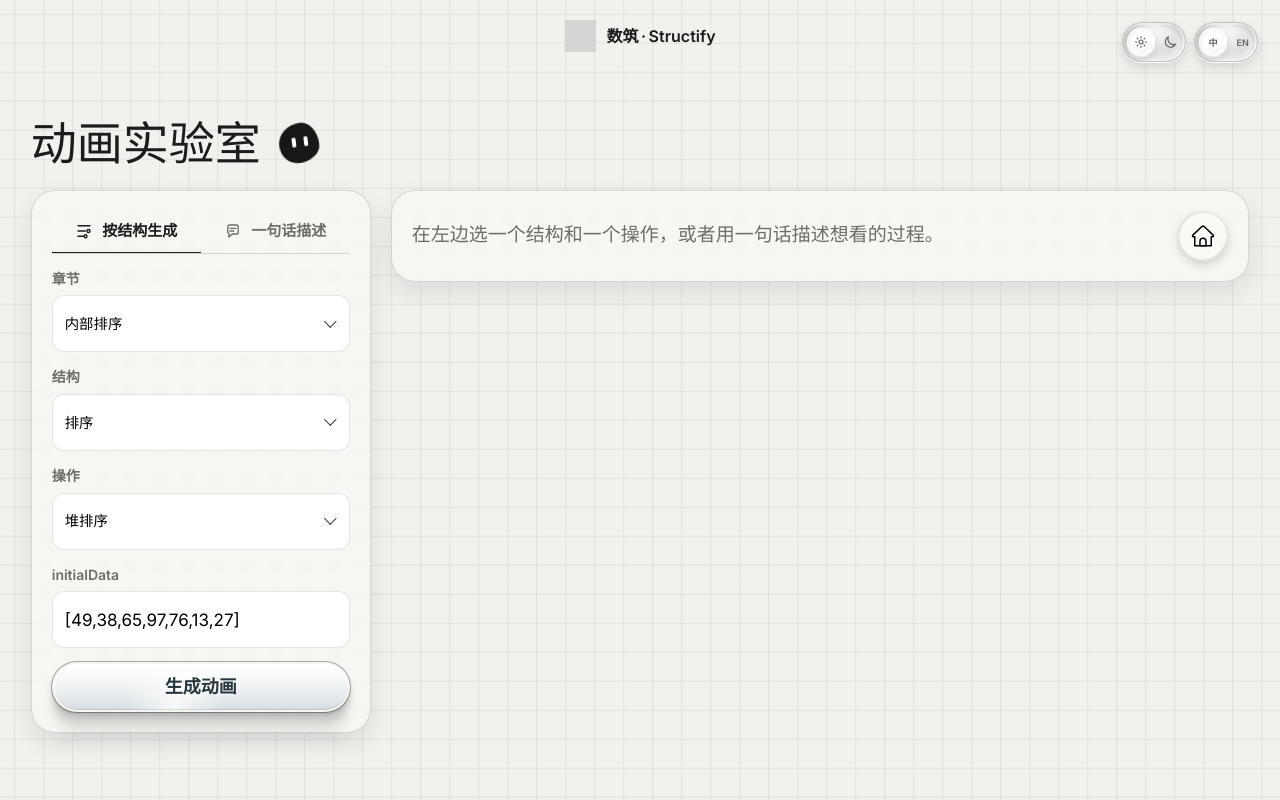
Test: animation lab › raises the missing arguments in a dialog instead of printing them as small print
The width and height of the screenshot is (1280, 800).
Step 1. Click the button named "生成动画" → (201, 687), box [52,662,350,712]
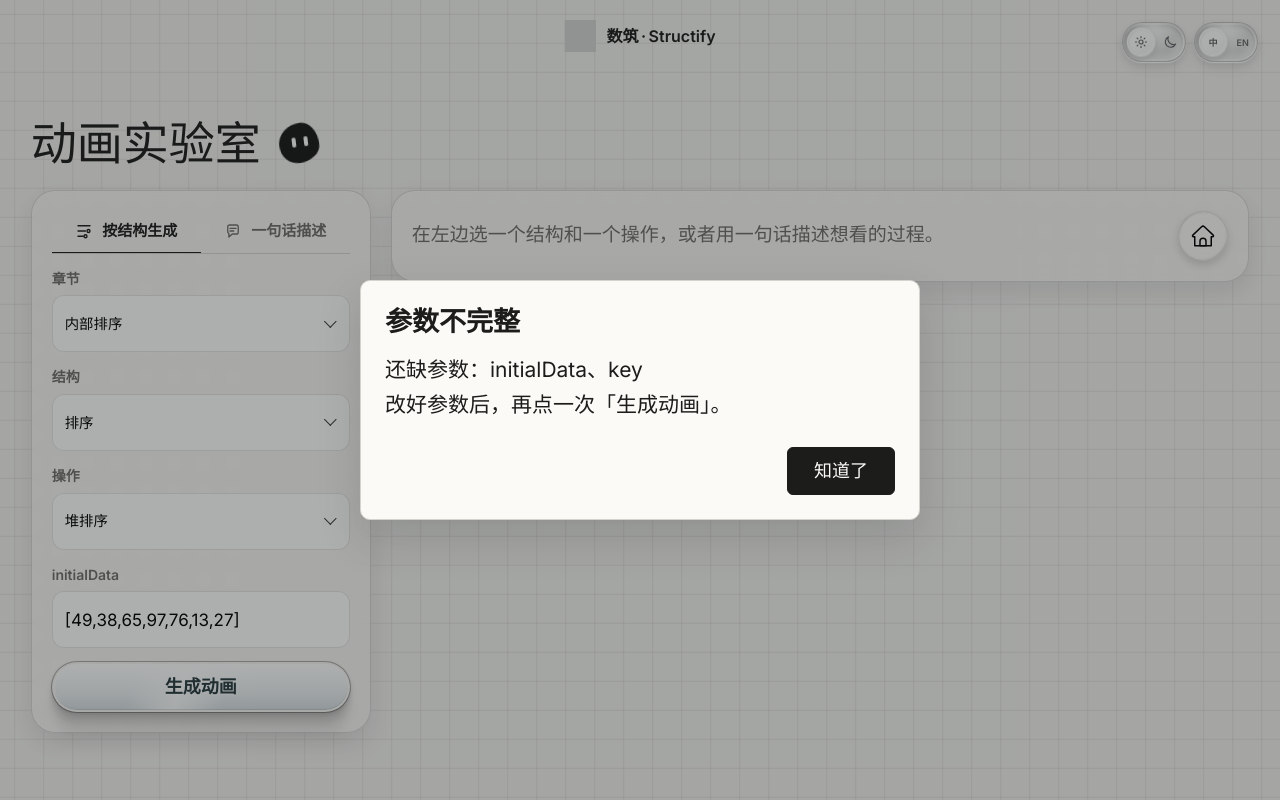
Expected: the dialog is shown, [360,280,920,520]
Expected: the dialog shows "参数不完整", [385,306,520,338]
Expected: the dialog shows "还缺参数：initialData、key", [385,357,732,417]
Step 2. Click the button "知道了" → (841, 470), box [787,446,895,494]
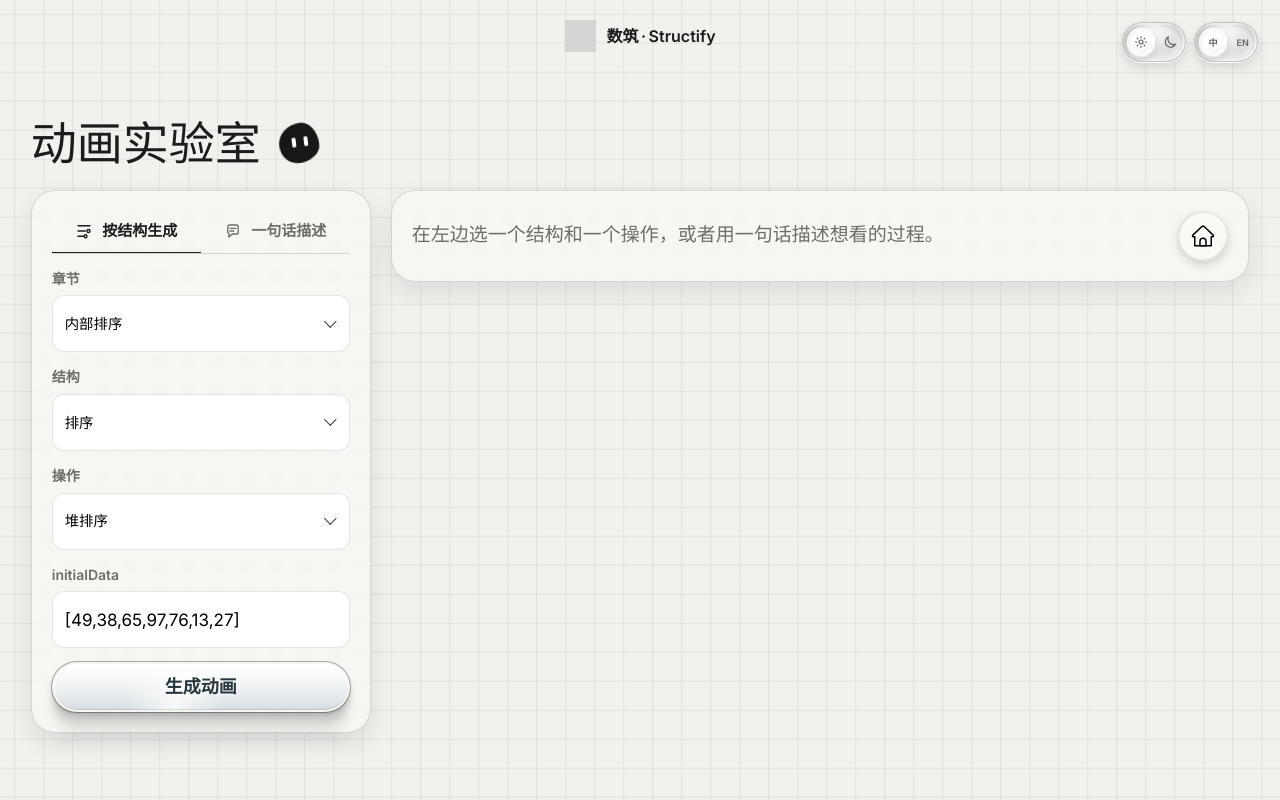
Expected: the dialog is gone
